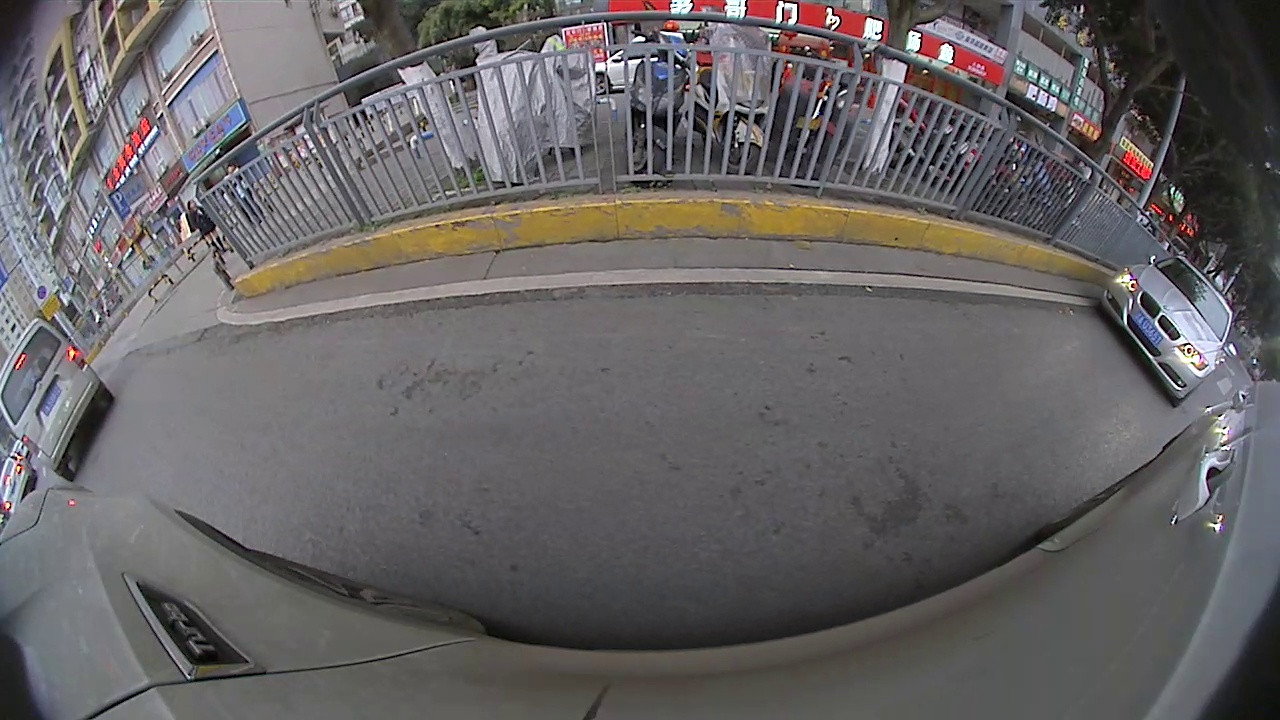car: (1094, 247, 1243, 408), (2, 315, 118, 487)
front: (623, 123, 670, 185), (716, 117, 763, 173), (587, 74, 610, 95)
rider: (776, 18, 885, 181), (693, 2, 784, 177), (627, 5, 697, 188)
